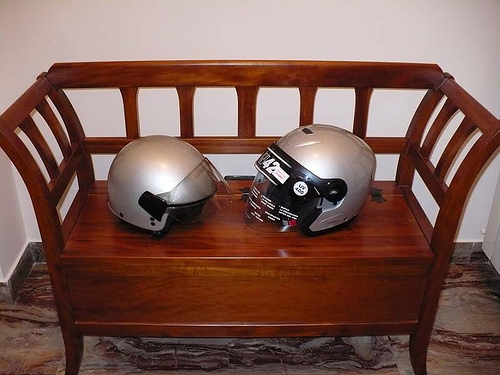helmet: (269, 128, 380, 233), (107, 137, 219, 233)
